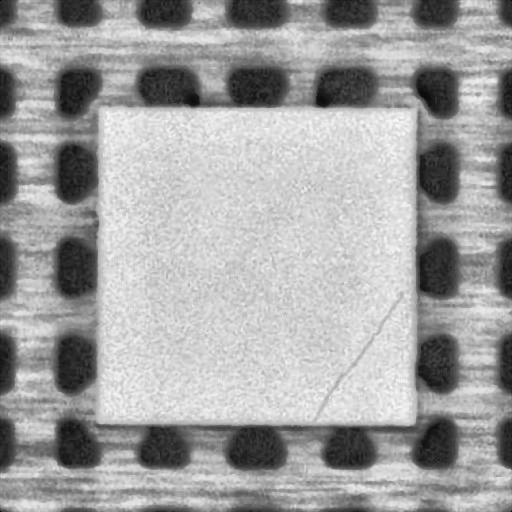DIE_CRACK: (309, 292, 401, 424)
